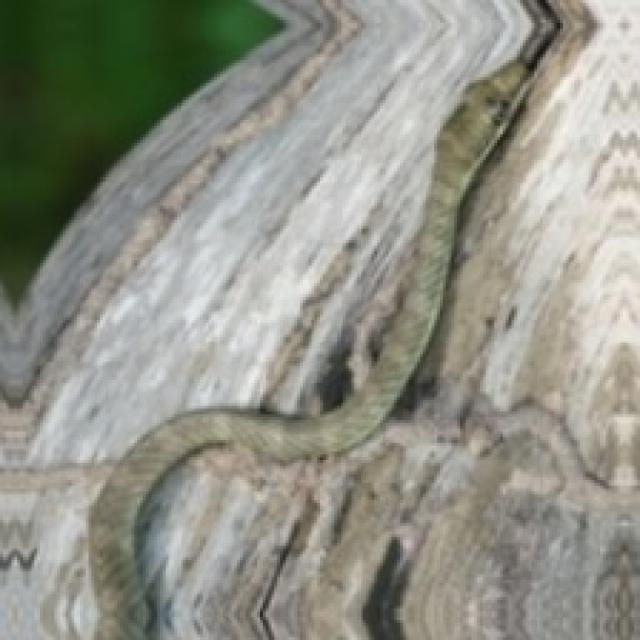paradise tree snake: (89, 57, 531, 637)
